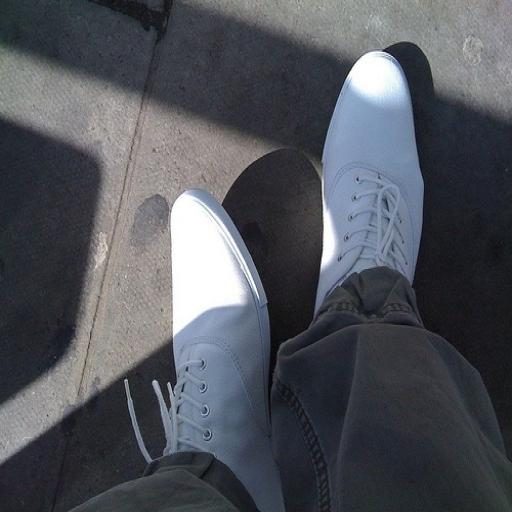shoe: (127, 190, 284, 510), (315, 51, 424, 314)
